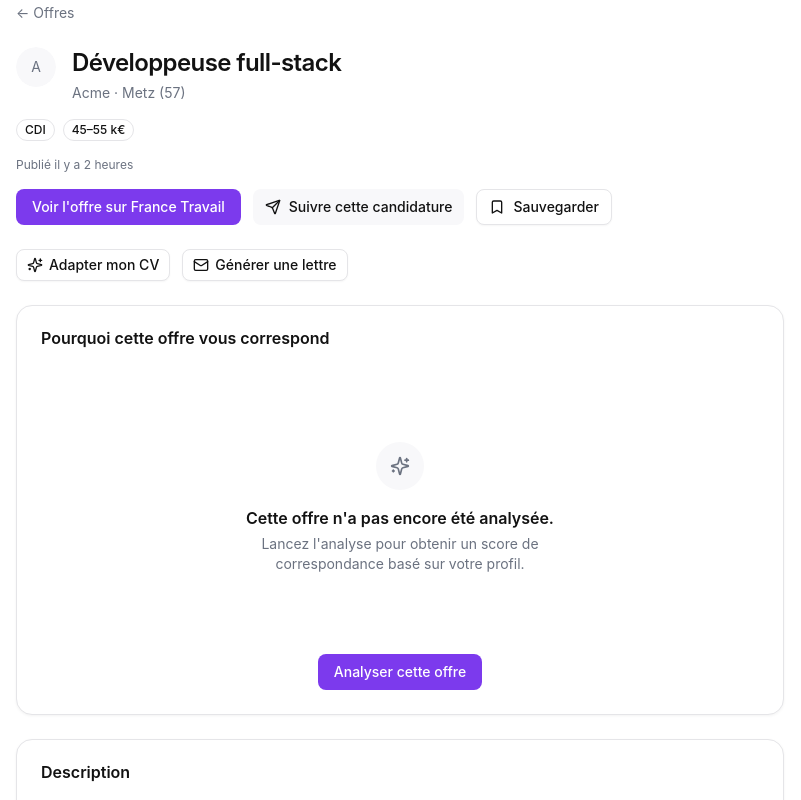
it: JobDetailPage › declenche l_analyse en cliquant sur Analyser cette offre, qui relit le score (invalidation)
The image size is (801, 800).
Click the button "Analyser cette offre": point(400, 672) [318,654,482,690]
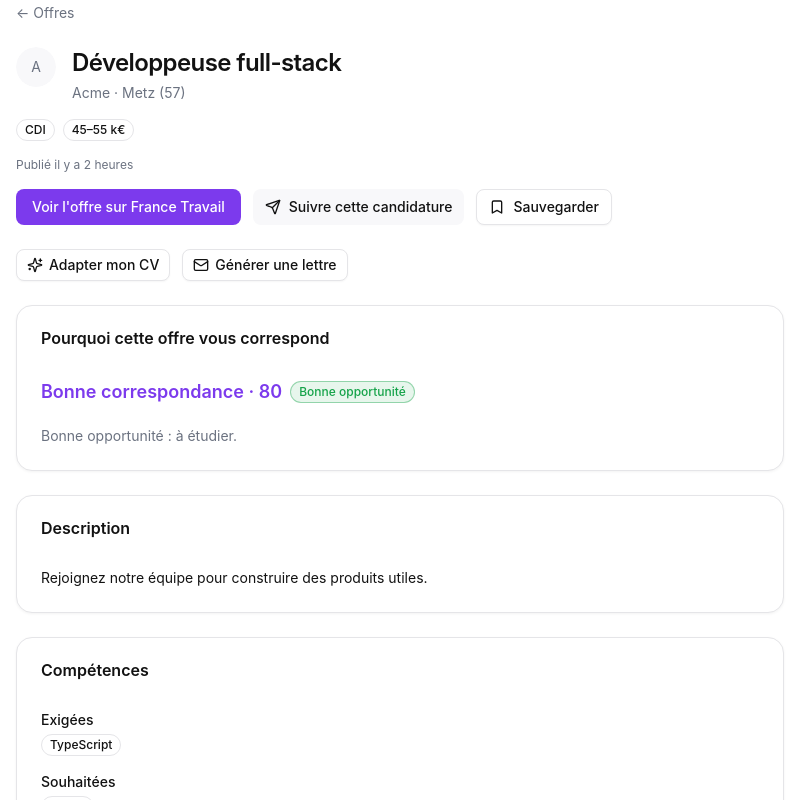
Check: the heading "Bonne correspondance · 80" is shown, box [41,378,282,406]
